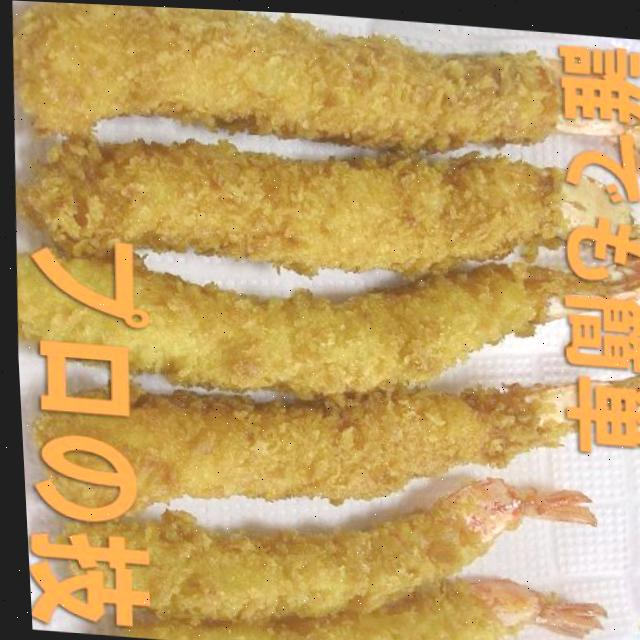炸货点心: (136, 440, 623, 640)
熟制海鲜: (136, 440, 623, 640)
